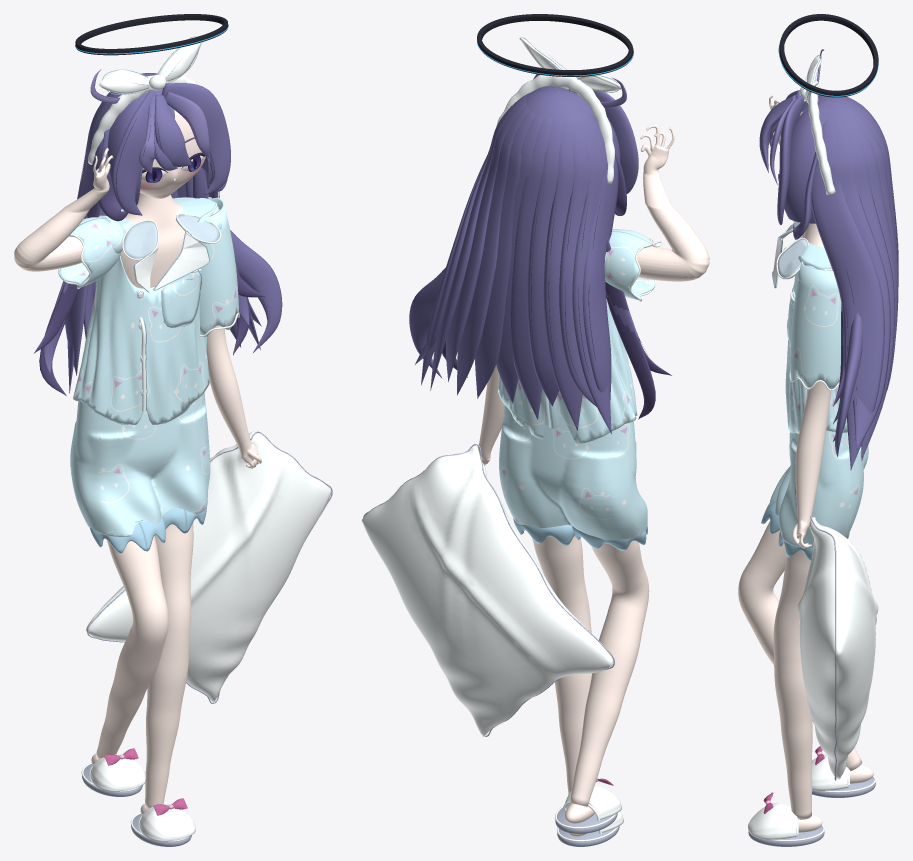
File: gpt6-astra-pro_mcp-colabdev_blender_moonlit-pajamas_web.glb
3 views of the same model, side by side, from view 1: azimuth 30°, elevation 25°; view 2: azimuth 150°, elevation 25°; view 3: azimuth 270°, elevation 25° (orthographic). The views are drawn at different scales.
Parts seen in each view (by area): view 1: Accessory_inflated_cotton_pillow, Clothes_soft_pajama_shorts, Clothes_pajama_shirt, Body_front_leg, Body_rear_leg, Body_raised_arm_five_fingers, Clothes_relaxed_scalloped_sleeve, Body_relaxed_arm_five_fingers, Body_neck_and_shoulders, HairTop_left_outer_fringe, HairTop_right_outer_frame, HairLong_flowing_outer_curl (+25 smaller); view 2: Accessory_inflated_cotton_pillow, Clothes_soft_pajama_shorts, Body_rear_leg, Body_front_leg, Body_raised_arm_five_fingers, Clothes_pajama_shirt, HairLong_layer_13, HairLong_layer_10, HairLong_layer_8, HairLong_layer_9, HairLong_layer_6, HairLong_layer_11 (+19 smaller); view 3: Accessory_inflated_cotton_pillow, HairLong_layer_1, Body_front_leg, Clothes_soft_pajama_shorts, Clothes_relaxed_scalloped_sleeve, Body_rear_leg, HairLong_layer_2, Body_relaxed_arm_five_fingers, HairTop_crown_cap, HairLong_layer_3, Accessory_dark_elliptical_halo, HairLong_layer_4 (+20 smaller).
Part boxes in pixels (bbox=[...]): Accessory_inflated_cotton_pillow: bbox=[85, 431, 331, 702]; Clothes_soft_pajama_shorts: bbox=[70, 392, 210, 536]; Clothes_pajama_shirt: bbox=[73, 197, 217, 424]; Body_front_leg: bbox=[144, 522, 193, 809]; Body_rear_leg: bbox=[96, 536, 168, 759]; Body_raised_arm_five_fingers: bbox=[14, 148, 112, 271]; Clothes_relaxed_scalloped_sleeve: bbox=[199, 197, 238, 337]; Body_relaxed_arm_five_fingers: bbox=[206, 206, 261, 468]; Body_neck_and_shoulders: bbox=[120, 193, 185, 288]; HairTop_left_outer_fringe: bbox=[112, 90, 156, 215]; HairTop_right_outer_frame: bbox=[161, 83, 230, 195]; HairLong_flowing_outer_curl: bbox=[185, 177, 282, 352]; Accessory_inflated_cotton_pillow: bbox=[361, 445, 613, 737]; Clothes_soft_pajama_shorts: bbox=[499, 405, 647, 540]; Body_rear_leg: bbox=[569, 541, 649, 806]; Body_front_leg: bbox=[532, 536, 591, 793]; Body_raised_arm_five_fingers: bbox=[637, 124, 709, 281]; Clothes_pajama_shirt: bbox=[498, 299, 637, 443]; HairLong_layer_13: bbox=[582, 111, 618, 402]; HairLong_layer_10: bbox=[543, 117, 582, 430]; HairLong_layer_8: bbox=[510, 117, 552, 419]; HairLong_layer_9: bbox=[527, 118, 562, 406]; HairLong_layer_6: bbox=[475, 110, 534, 398]; HairLong_layer_11: bbox=[559, 115, 596, 406]; Accessory_inflated_cotton_pillow: bbox=[797, 517, 878, 779]; HairLong_layer_1: bbox=[811, 119, 884, 469]; Body_front_leg: bbox=[773, 550, 812, 819]; Clothes_soft_pajama_shorts: bbox=[770, 430, 868, 547]; Clothes_relaxed_scalloped_sleeve: bbox=[790, 261, 841, 389]; Body_rear_leg: bbox=[738, 521, 862, 771]; HairLong_layer_2: bbox=[831, 119, 890, 450]; Body_relaxed_arm_five_fingers: bbox=[792, 382, 831, 548]; HairTop_crown_cap: bbox=[784, 95, 864, 223]; HairLong_layer_3: bbox=[841, 118, 894, 460]; Accessory_dark_elliptical_halo: bbox=[779, 14, 878, 97]; HairLong_layer_4: bbox=[848, 117, 897, 392].
Size of the model in its own units: 3.18 by 7.37 by 1.35.
Materials: 21 (5 with a texture image).
